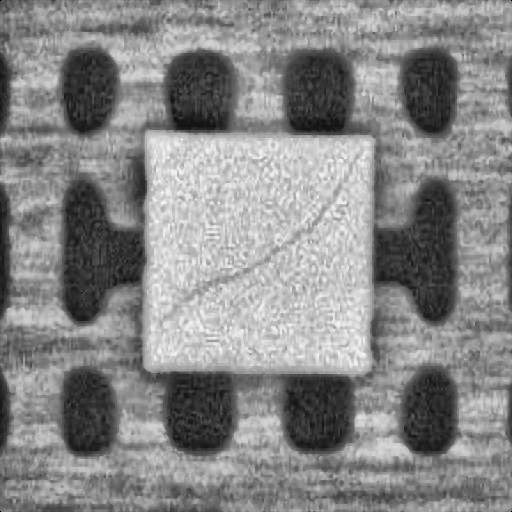DIE_CRACK: (177, 146, 358, 302)
